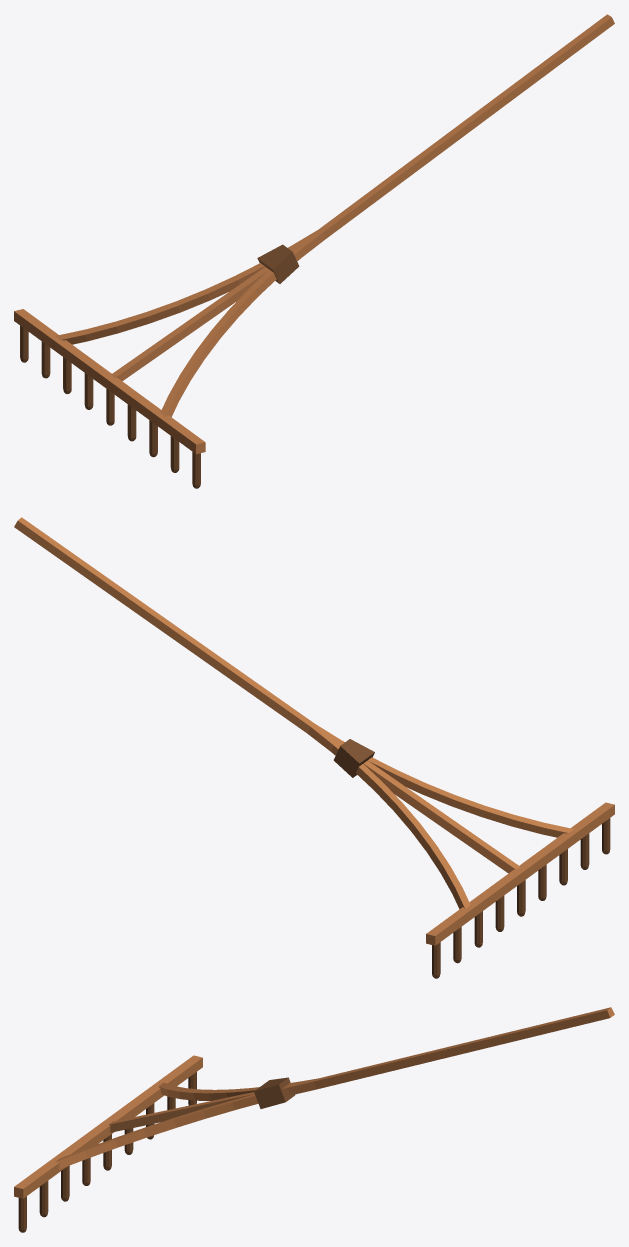
Rendered from wooden_rake.glb.
3 renders of one model, top to bottom at view 1: azimuth 30°, elevation 25°; view 2: azimuth 150°, elevation 25°; view 3: azimuth 330°, elevation 25°, orthographic.
Parts seen in each view (by area): view 1: Cube; view 2: Cube; view 3: Cube.
Part boxes in pixels (box(x1,y1,x2,y2)): Cube: box(14, 14, 614, 488); Cube: box(14, 517, 614, 978); Cube: box(14, 1007, 614, 1232).
Bounding box in the file's own units: 2.9 × 1.53 × 1.79.
